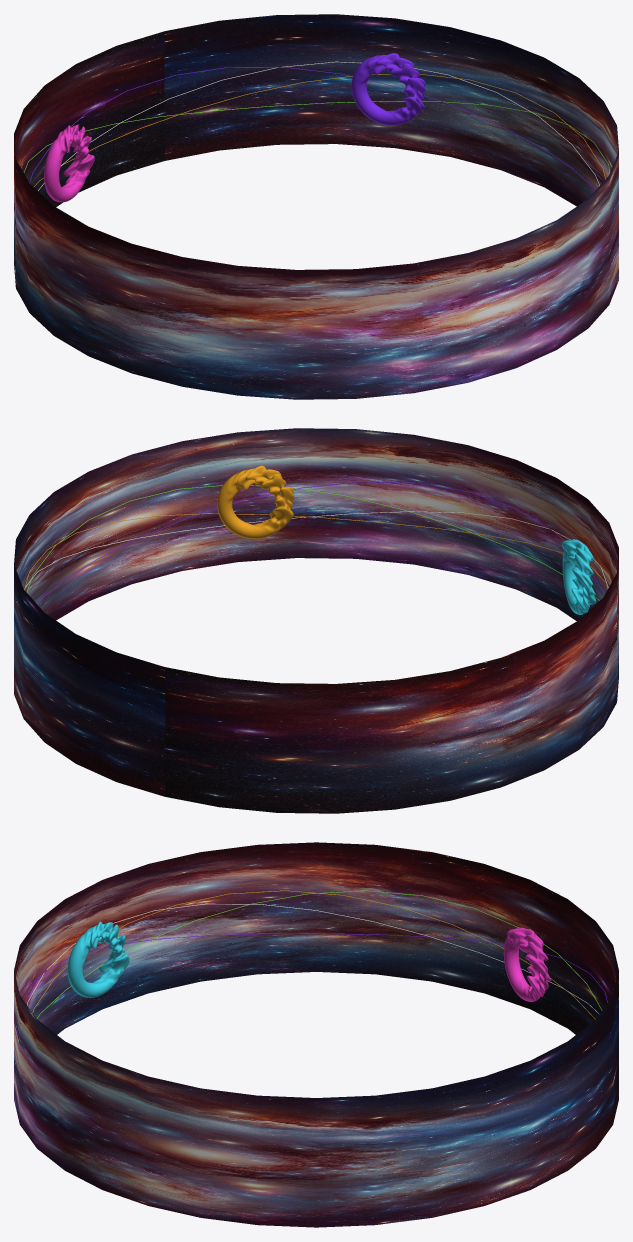
Rendered from contacto.glb.
3 views of the same model, one above another, from view 1: azimuth 30°, elevation 25°; view 2: azimuth 150°, elevation 25°; view 3: azimuth 270°, elevation 25° (orthographic).
Visible parts, largest first — view 1: Cylinder.001, Torus.002, Torus.001, Circle.002, Circle.003, Circle.001, Circle; view 2: Cylinder.001, Torus.004, Torus.003, Circle.002, Circle.001, Circle, Circle.003; view 3: Cylinder.001, Torus.003, Torus.001, Circle.003, Circle.002, Circle, Circle.001.
Boxes of the visible parts, x1,y1,x2,y2 form: Cylinder.001: (14,14,618,399); Torus.002: (351,53,425,125); Torus.001: (44,124,94,202); Circle.002: (29,67,596,189); Circle.003: (23,101,609,173); Circle.001: (34,74,605,186); Circle: (38,61,599,190); Cylinder.001: (14,428,618,813); Torus.004: (217,465,294,538); Torus.003: (561,539,596,614); Circle.002: (36,481,604,603); Circle.001: (24,513,607,589); Circle: (24,511,608,588); Circle.003: (26,485,599,600); Cylinder.001: (14,842,618,1227); Torus.003: (67,921,129,997); Torus.001: (503,927,550,1001); Circle.003: (36,890,602,1018); Circle.002: (25,933,607,1002); Circle: (27,903,599,1014); Circle.001: (32,890,595,1019).
Size of the model in its own units: 20.03 by 4.73 by 20.03.
6 materials, 1 textured.
